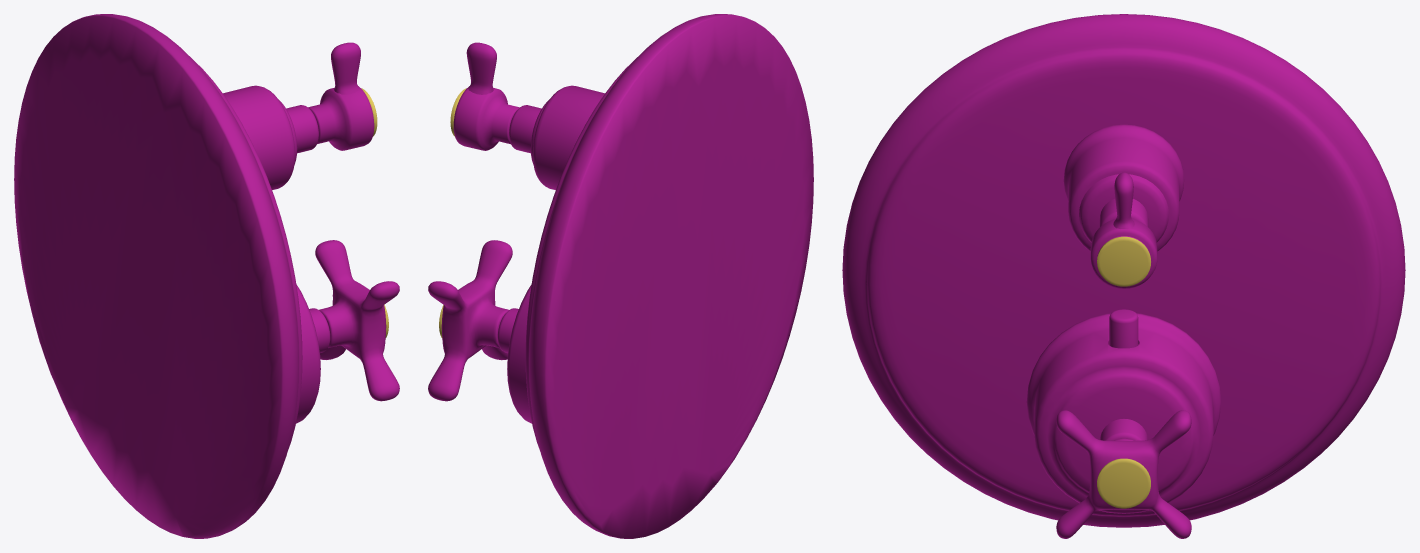
The picture shows the model from 3 angles, left to right: view 1: azimuth 30°, elevation 25°; view 2: azimuth 150°, elevation 25°; view 3: azimuth 270°, elevation 25°; orthographic projection. The views are drawn at different scales.
Parts seen in each view (by area): view 1: Object004, nickel__1_0; view 2: Object004, nickel__1_0; view 3: Object004, nickel__1_0, Object001, white__1_0.
Part boxes in pixels (box(x1,y1,x2,y2)): Object004: box(14, 14, 302, 538); nickel__1_0: box(223, 42, 399, 423); Object004: box(525, 14, 813, 538); nickel__1_0: box(428, 42, 604, 423); Object004: box(842, 14, 1405, 527); nickel__1_0: box(1026, 124, 1221, 538); Object001: box(1097, 236, 1151, 286); white__1_0: box(1097, 458, 1150, 508).
Bounding box in the file's own units: 86.91 × 175 × 175.
